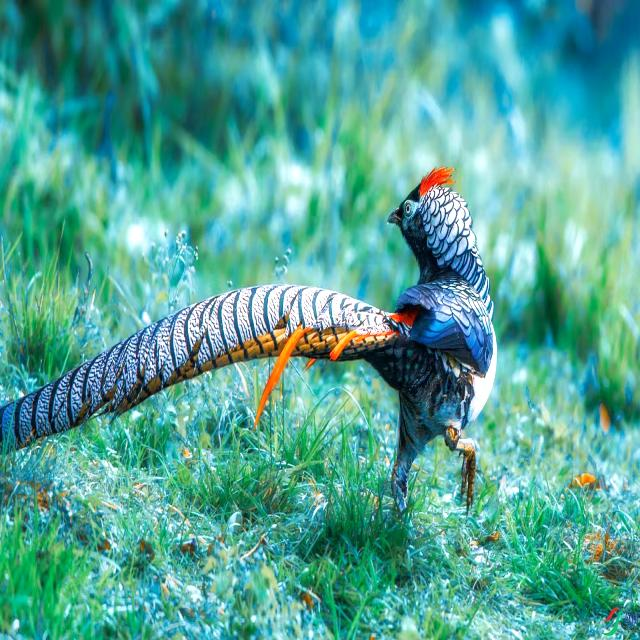Chrysolophus amherstiae: (0, 285, 391, 447), (334, 332, 419, 374)
